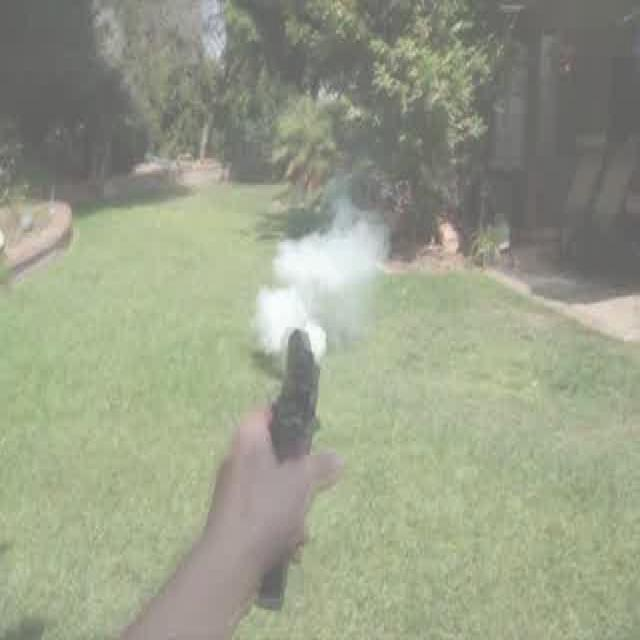Smoke: (248, 195, 392, 380)
